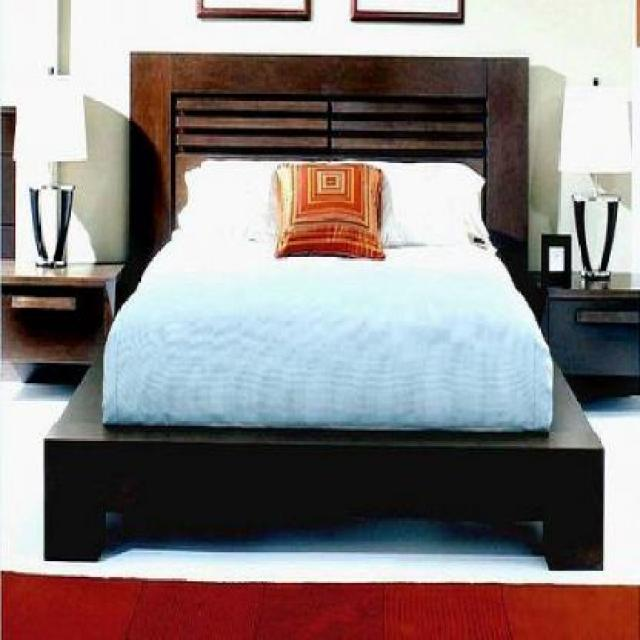Bed: (30, 39, 623, 575)
